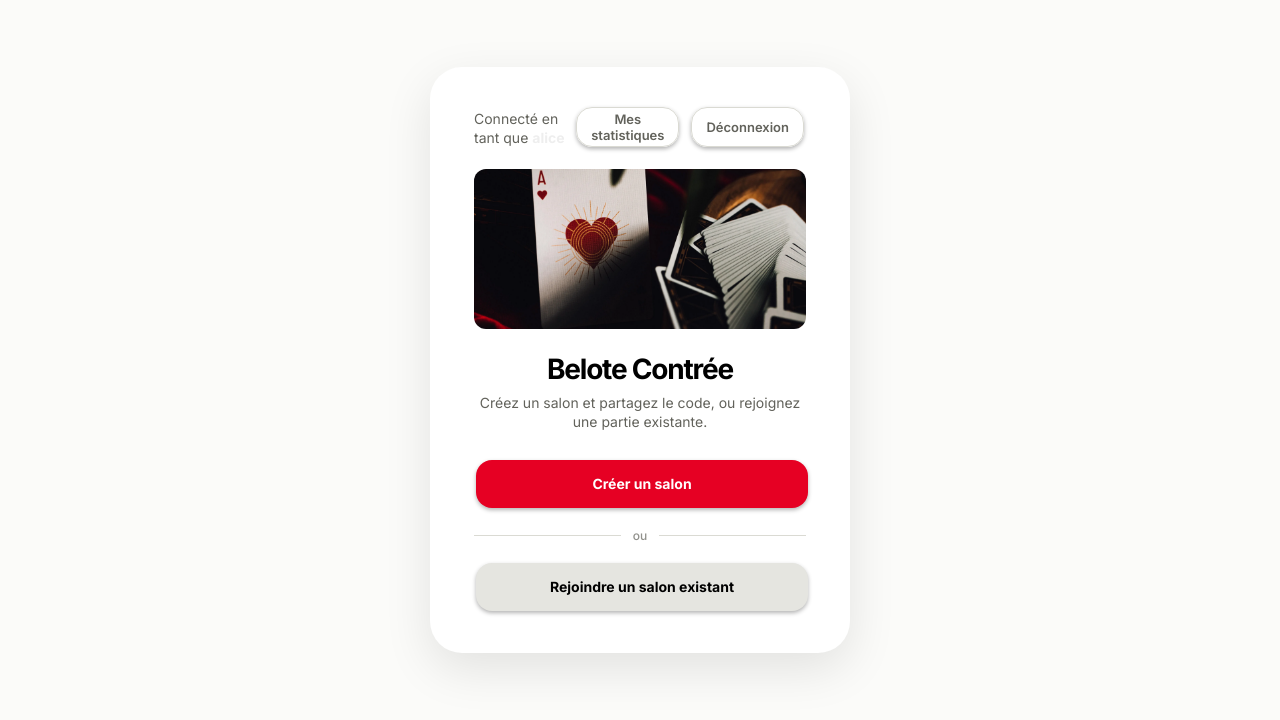
App — rejoindre un salon › affiche une erreur si la suppression est refusée par le backend
Click the button "Rejoindre un salon existant" at (642,587), box [476, 563, 808, 611]
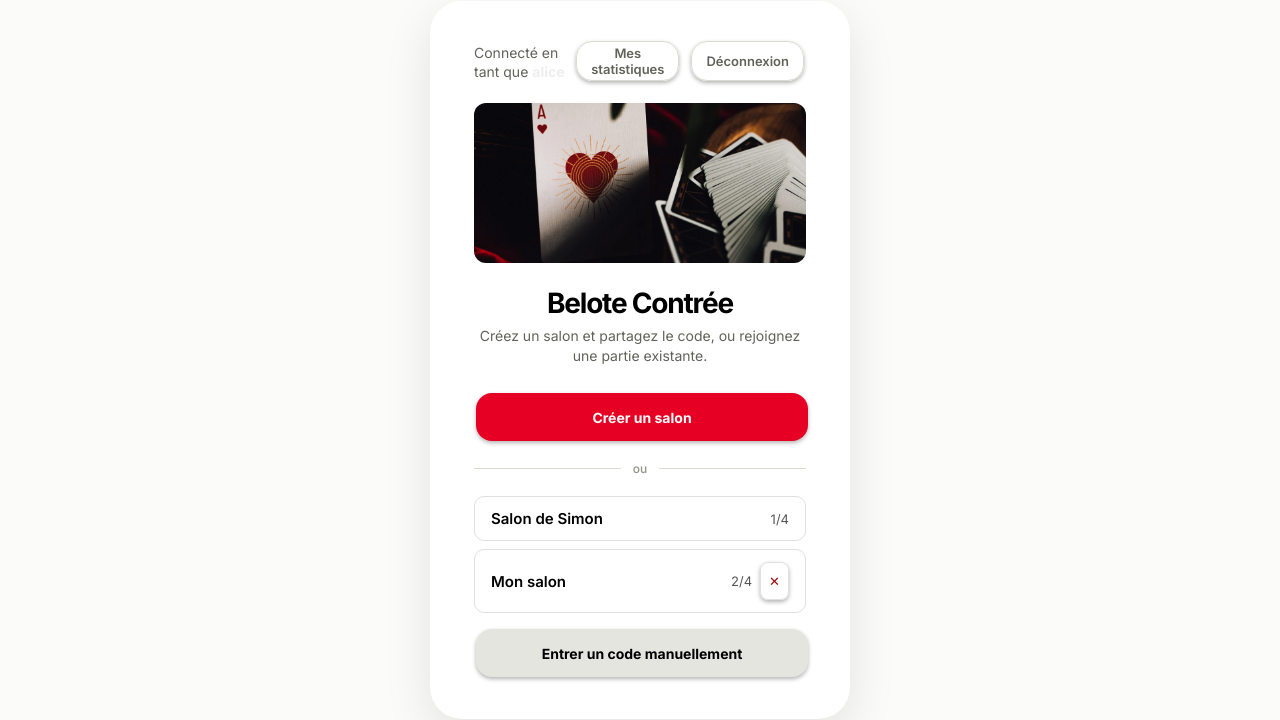
expect the text "Mon salon" is shown: met, box [491, 572, 566, 591]
Click the button named "Supprimer le salon Mon salon" at (775,581), box [760, 562, 789, 600]
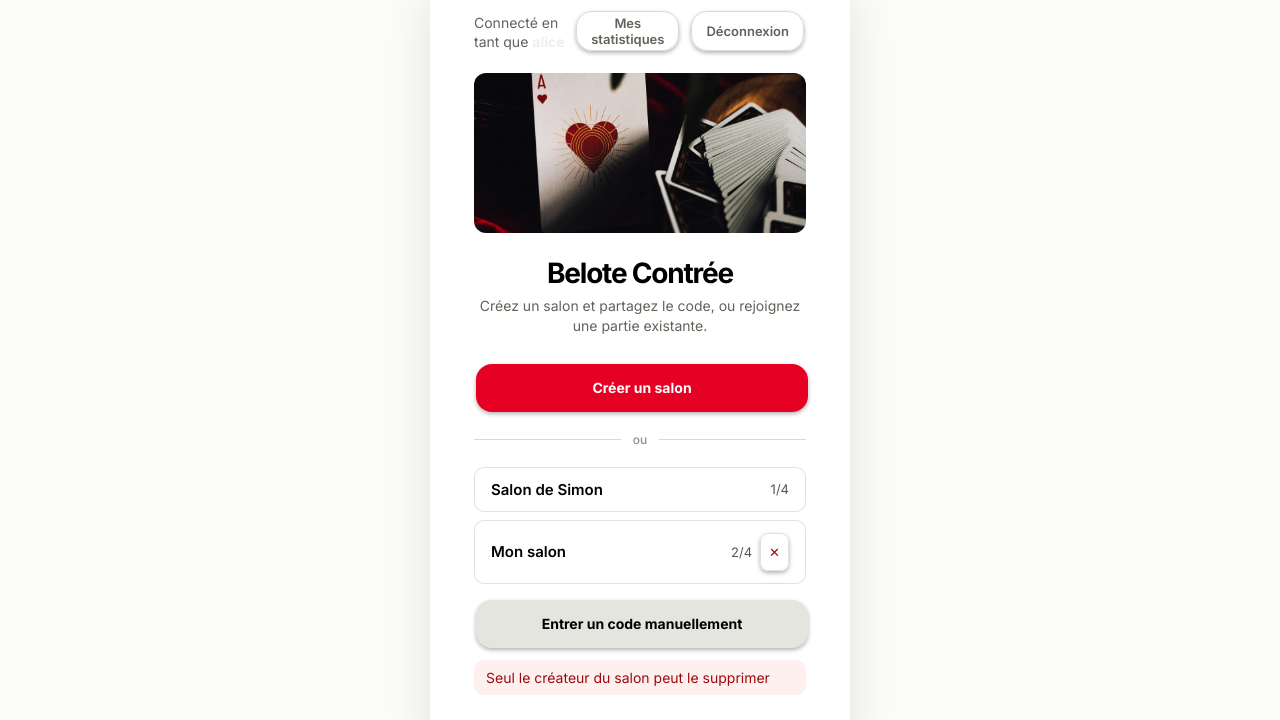
expect the text "Mon salon" is shown: met, box [491, 542, 566, 561]
expect the text "Seul le créateur du salon peut le supprimer" is shown: met, box [474, 660, 806, 695]
